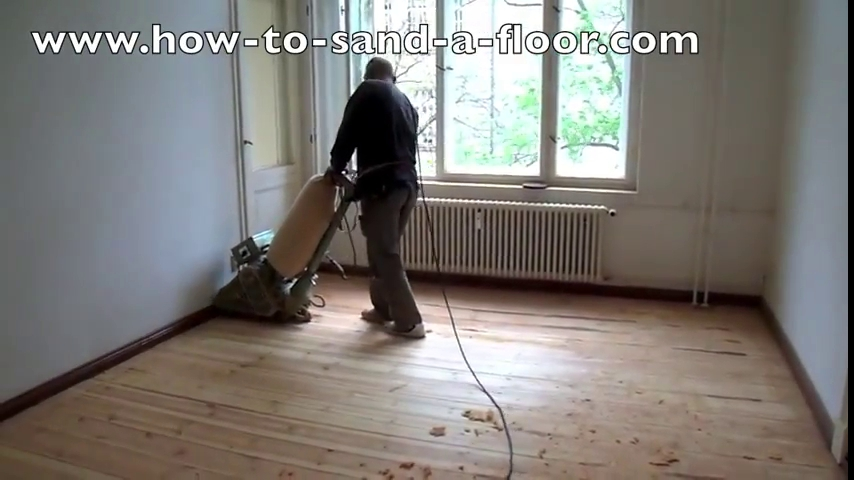person: (330, 57, 424, 337)
